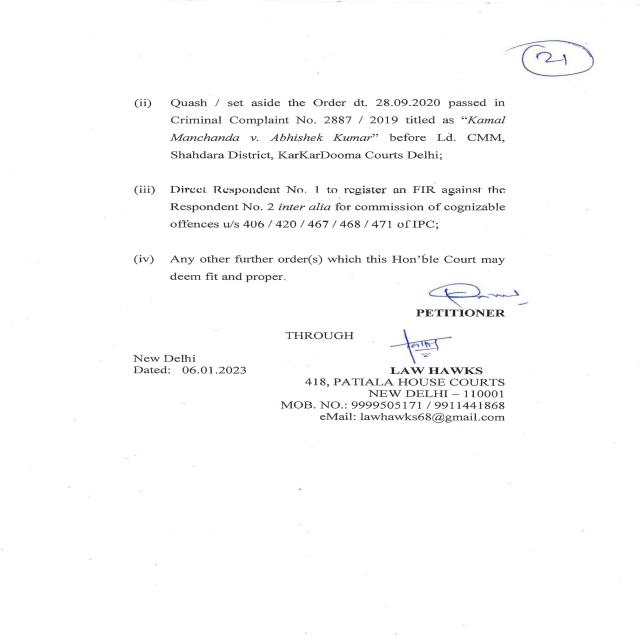page-number: (370, 5, 627, 89)
